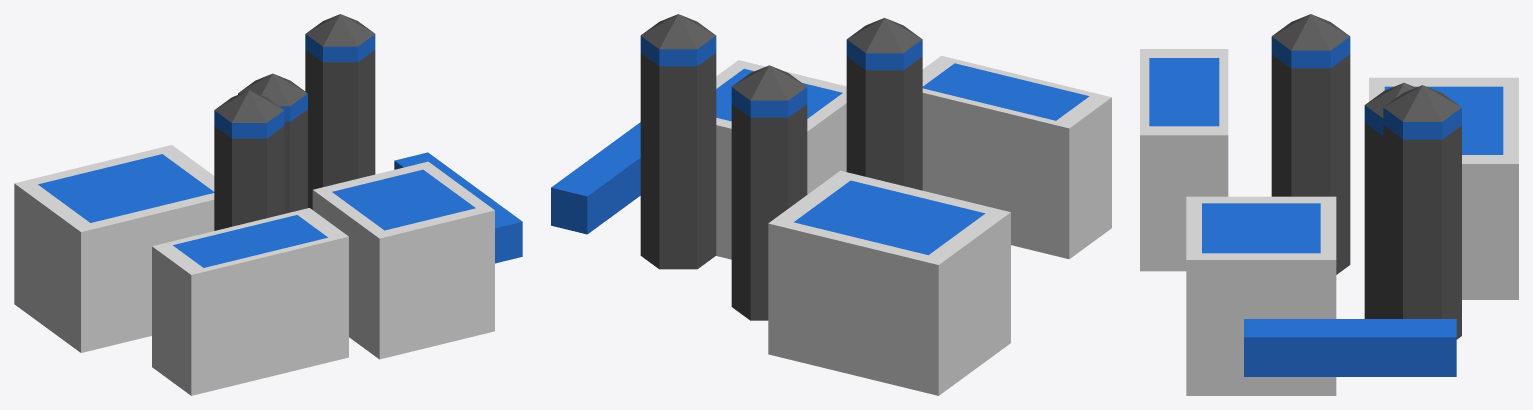
The model's file is water.fbx.
3 renders of one model, left to right at view 1: azimuth 30°, elevation 25°; view 2: azimuth 150°, elevation 25°; view 3: azimuth 270°, elevation 25°, orthographic. The views are drawn at different scales.
Parts seen in each view (by area): view 1: Water; view 2: Water; view 3: Water.
Boxes of the visible parts, x1,y1,x2,y2 form: Water: (14,14,522,395); Water: (551,14,1111,395); Water: (1140,14,1518,395).
Size of the model in its own units: 668 by 427 by 505.
